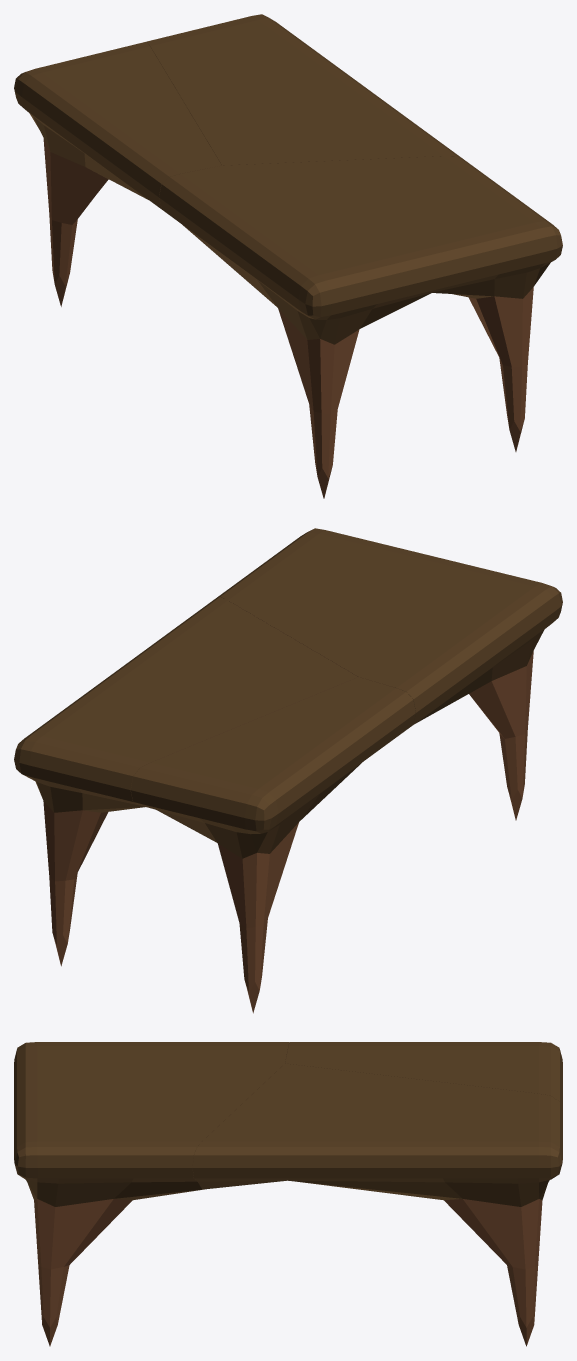
Rendered from Table_fractured.fbx.
The picture shows the model from 3 angles, top to bottom: view 1: azimuth 30°, elevation 25°; view 2: azimuth 150°, elevation 25°; view 3: azimuth 270°, elevation 25°; orthographic projection. The views are drawn at different scales.
Parts seen in each view (by area): view 1: Cube_cell, Cube_cell.001, Cube_cell.002; view 2: Cube_cell, Cube_cell.001, Cube_cell.002; view 3: Cube_cell.001, Cube_cell, Cube_cell.002.
Boxes of the visible parts, bbox=[...] form: Cube_cell: bbox=[159, 156, 562, 498]; Cube_cell.001: bbox=[147, 14, 464, 165]; Cube_cell.002: bbox=[14, 41, 221, 306]; Cube_cell: bbox=[216, 528, 562, 820]; Cube_cell.001: bbox=[14, 597, 357, 966]; Cube_cell.002: bbox=[130, 677, 415, 1013]; Cube_cell.001: bbox=[192, 1063, 562, 1346]; Cube_cell: bbox=[14, 1042, 289, 1346]; Cube_cell.002: bbox=[285, 1042, 562, 1112].
Bounding box in the file's own units: 277 × 239 × 565.
